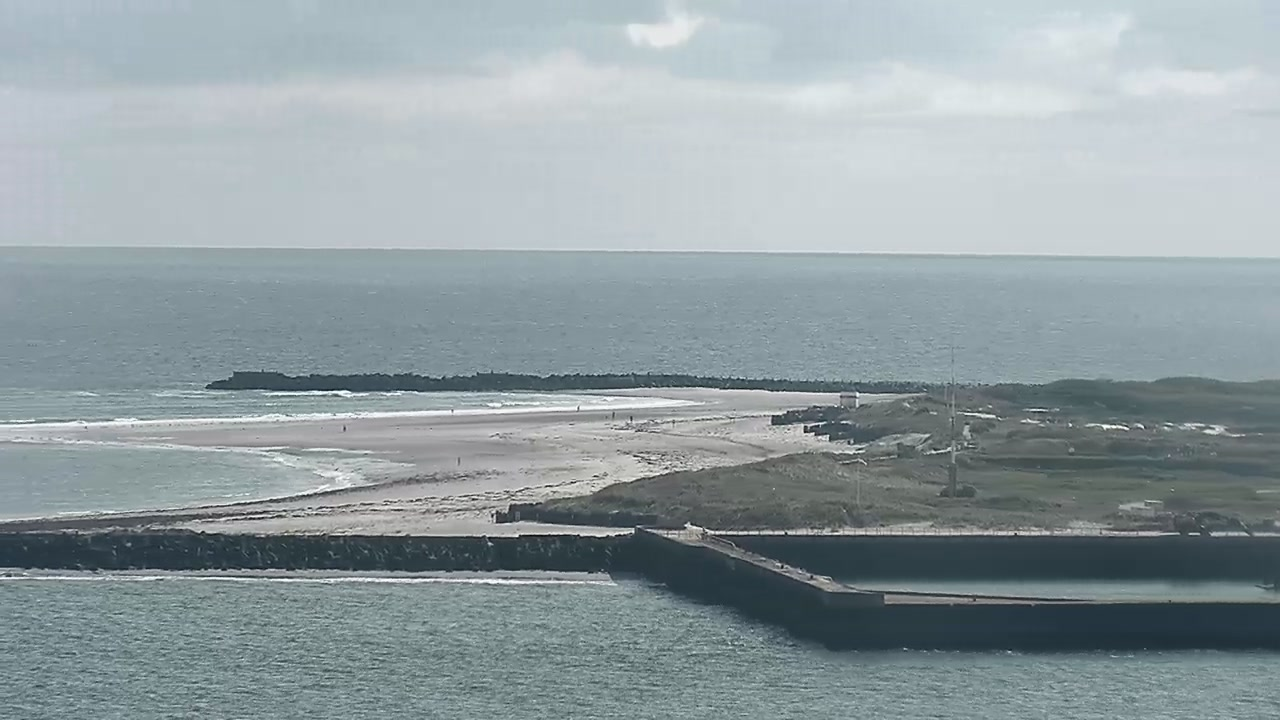human: (342, 424, 347, 433), (611, 410, 616, 419), (457, 455, 460, 466), (450, 407, 454, 415), (577, 404, 581, 412), (629, 415, 633, 423)
